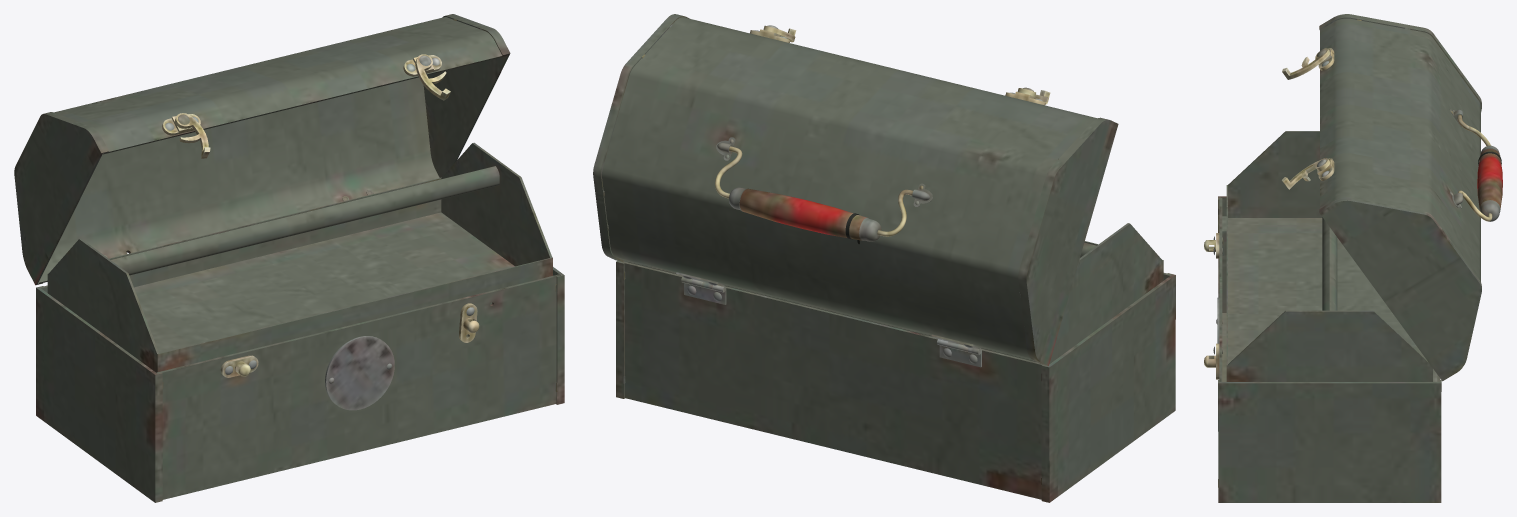
Rendered from ph_metal_toolbox.glb.
The picture shows the model from 3 angles, left to right: view 1: azimuth 30°, elevation 25°; view 2: azimuth 150°, elevation 25°; view 3: azimuth 270°, elevation 25°; orthographic projection. The views are drawn at different scales.
Visible parts, largest first — view 1: metal_toolbox; view 2: metal_toolbox; view 3: metal_toolbox.
Boxes of the visible parts, box(x1,y1,x2,y2) form: metal_toolbox: box(14, 14, 564, 502); metal_toolbox: box(593, 14, 1175, 502); metal_toolbox: box(1204, 14, 1502, 502).
Size of the model in its own units: 0.4 by 0.3047 by 0.2705.
1 material, 1 textured.
